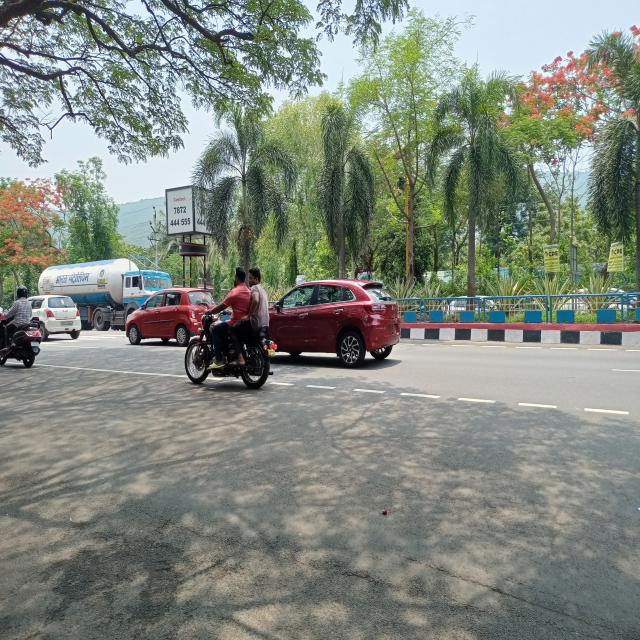bike: (181, 311, 280, 391), (1, 317, 41, 367)
car: (277, 275, 406, 366), (123, 285, 200, 347), (33, 291, 84, 344)
